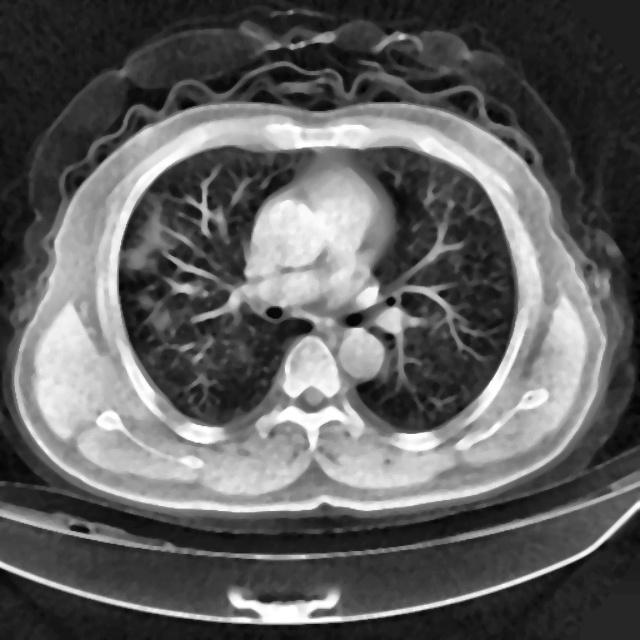covid: (3, 16, 631, 534)
